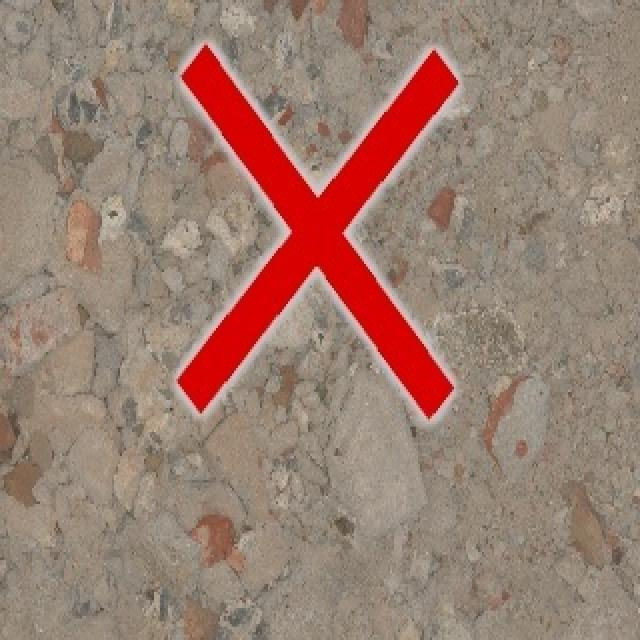x_marker: (177, 44, 457, 417)
